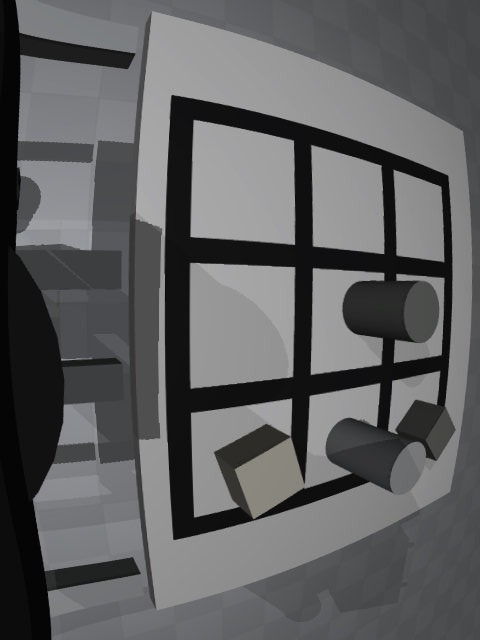can: (326, 418, 426, 495)
cube: (395, 400, 456, 461)
cylinder: (343, 280, 439, 343)
foam: (214, 424, 305, 519)
